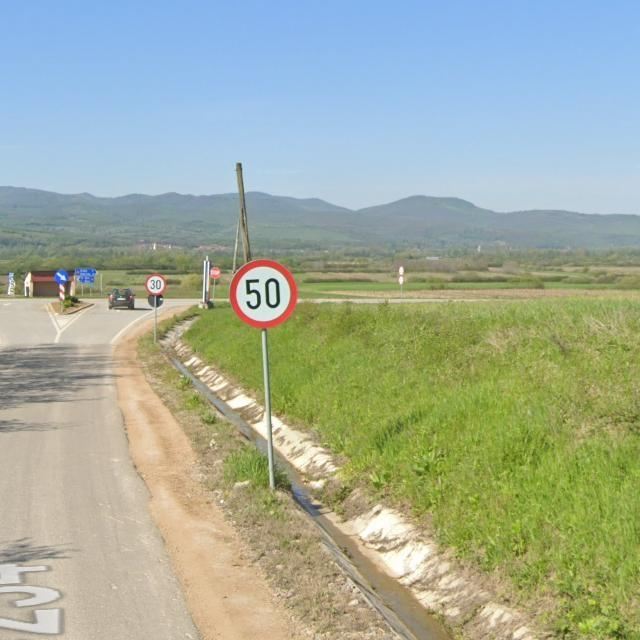forb_speed_over_30: (145, 274, 166, 296)
forb_speed_over_50: (230, 259, 300, 329)
